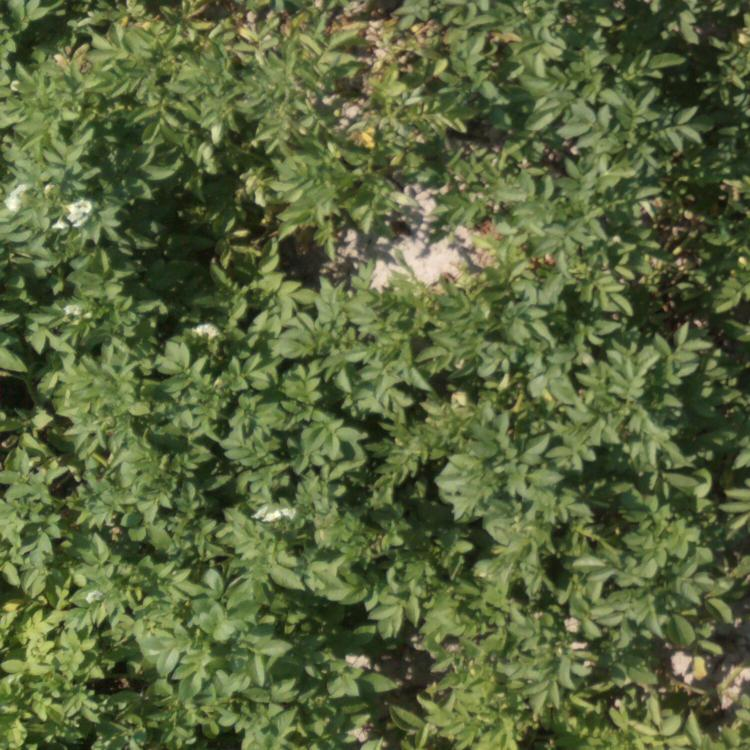healthy: (9, 289, 750, 744), (447, 4, 747, 287), (2, 1, 267, 281)
stressed: (261, 1, 430, 229)
